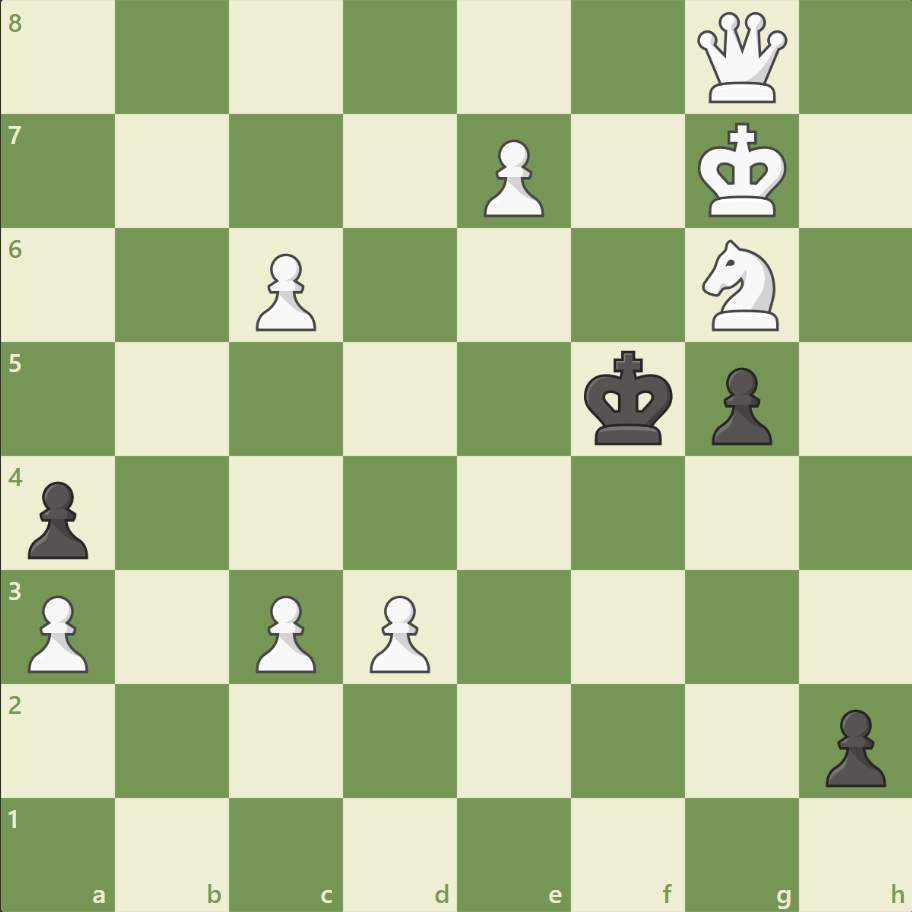K: (692, 117, 792, 225)
N: (692, 234, 789, 337)
P: (474, 132, 549, 223), (247, 246, 322, 337), (20, 586, 95, 677), (247, 586, 322, 677), (361, 586, 435, 677)
Q: (691, 9, 790, 108)
k: (579, 344, 679, 452)
p: (701, 359, 776, 450), (20, 473, 95, 564), (815, 700, 889, 791)
